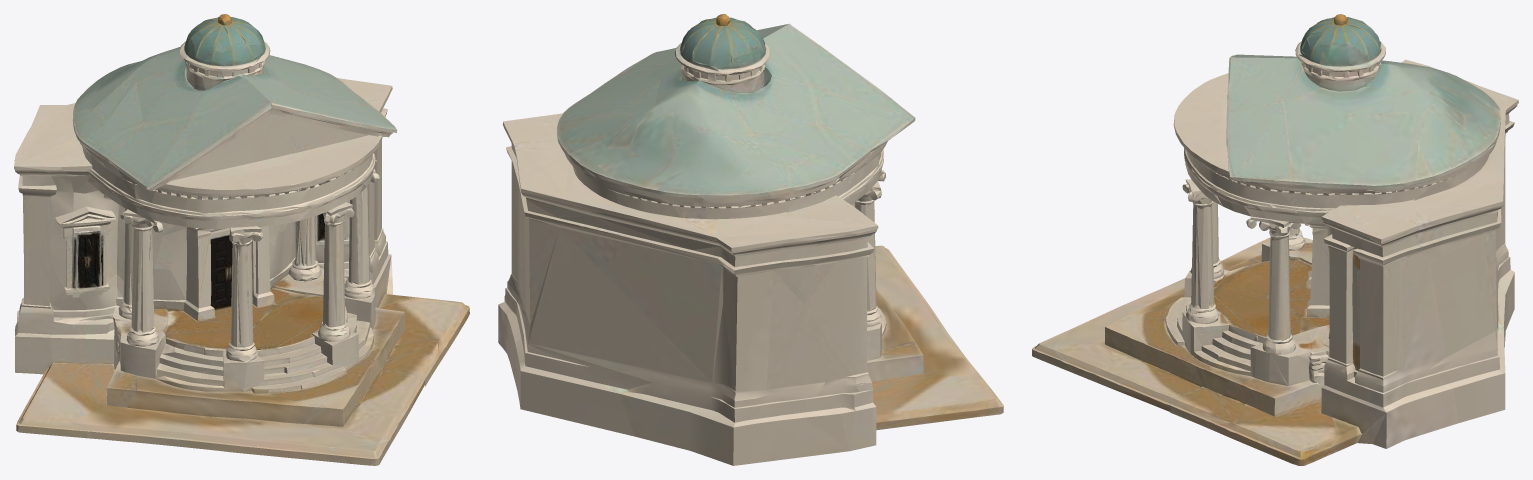
Rendered from lm_public_library.glb.
The picture shows the model from 3 angles, left to right: view 1: azimuth 30°, elevation 25°; view 2: azimuth 150°, elevation 25°; view 3: azimuth 270°, elevation 25°; orthographic projection. The views are drawn at different scales.
Bounding box in the file's own units: 1.9 × 1.34 × 1.73.
Materials: 1 (1 with a texture image).
